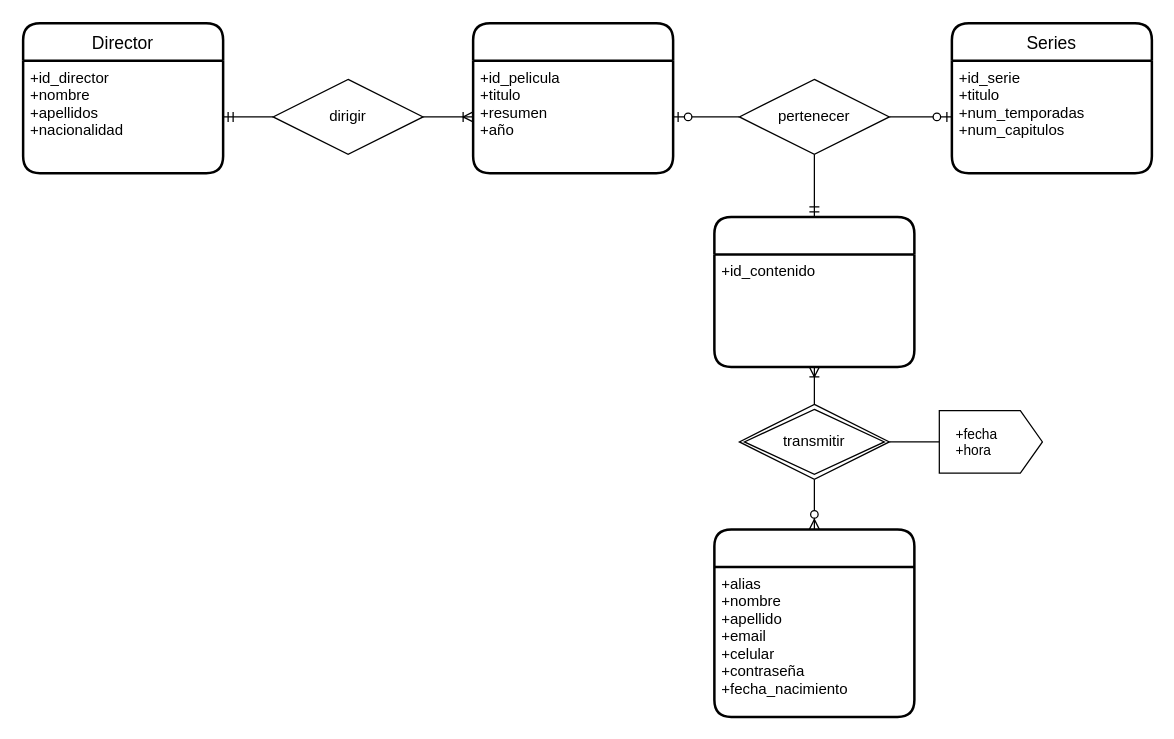
The diagram is 1174 pixels wide and 739 high, and some of its shapes have lost their labels. The box of each missing label's shape, as (x1, y1, x2, y2) in pixels:
Catalogo: (712, 215, 915, 368)
Peliculas: (471, 21, 674, 174)
Usuarios: (712, 528, 915, 718)
